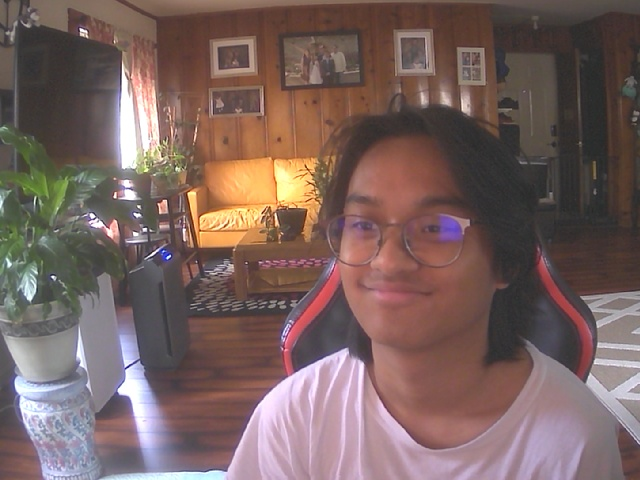happy: (314, 116, 525, 356)
